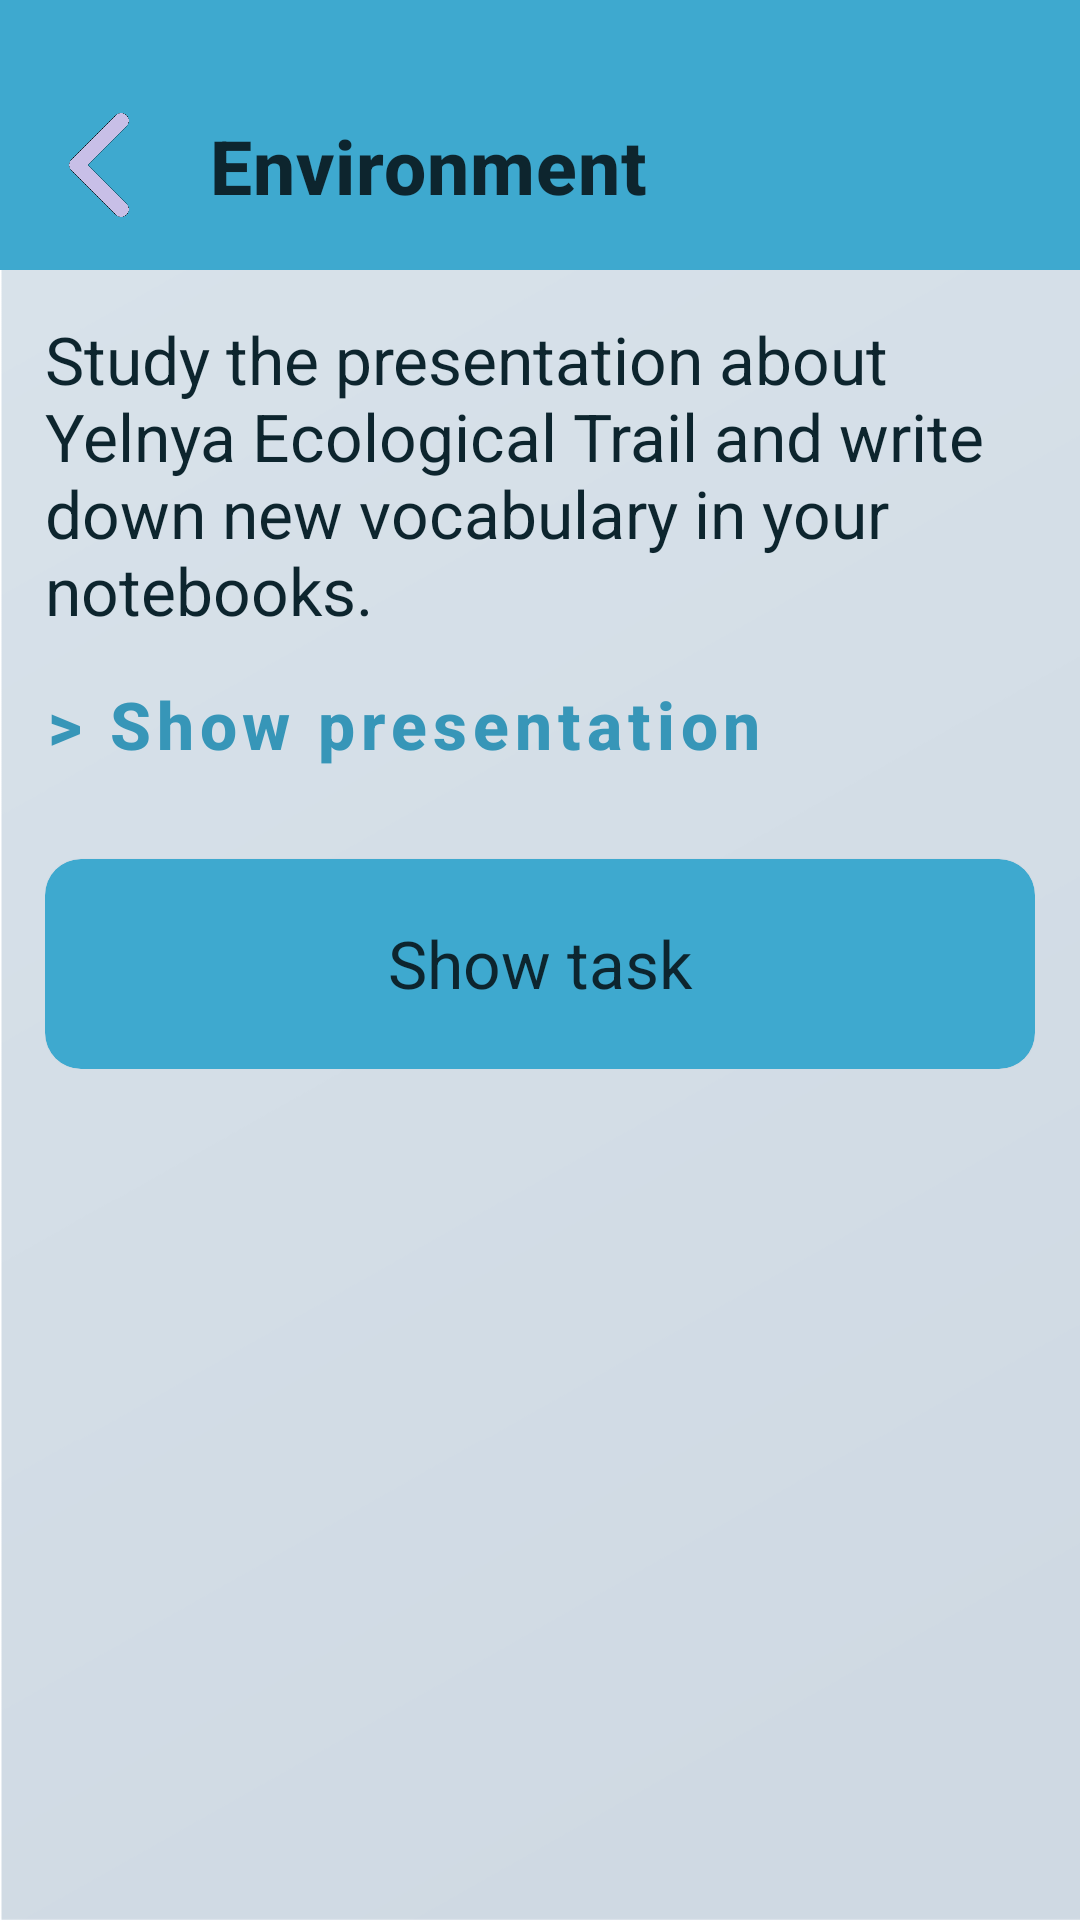

Screen size 1080px x 1920px. Icon name, then its center in pixels as (x=x, y=y):
back: (x=99, y=165)
